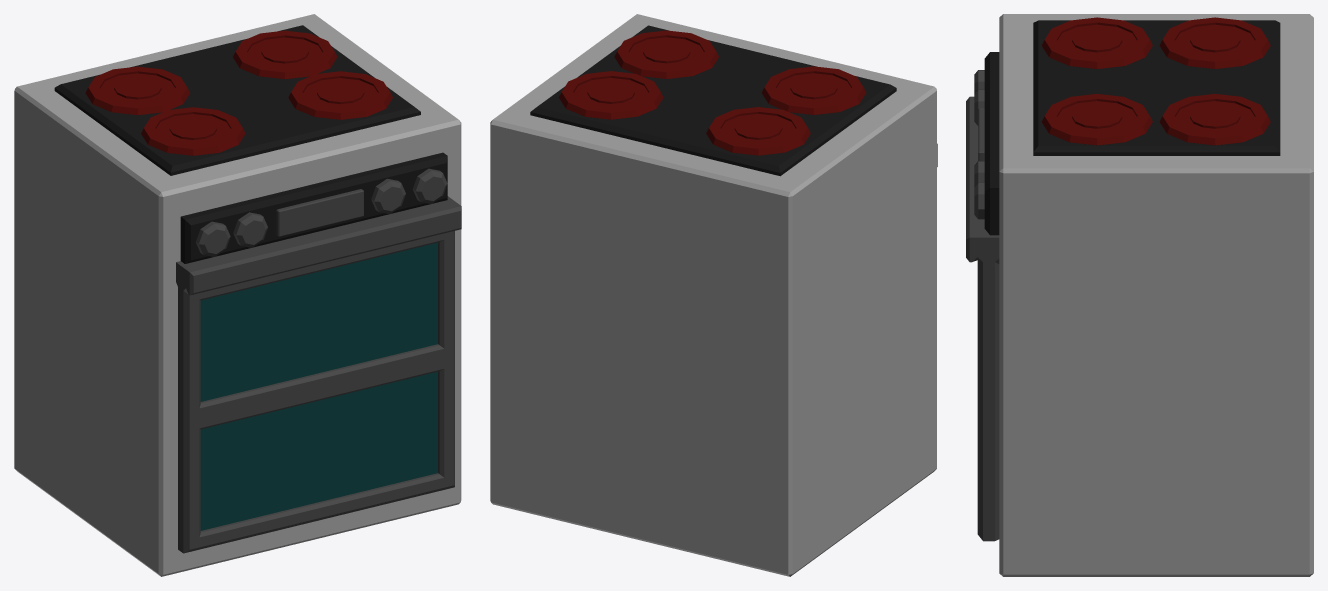
The model's file is hh_oven.glb.
The picture shows the model from 3 angles, left to right: view 1: azimuth 30°, elevation 25°; view 2: azimuth 150°, elevation 25°; view 3: azimuth 270°, elevation 25°; orthographic projection. The views are drawn at different scales.
Parts seen in each view (by area): view 1: Oven, Oven001; view 2: Oven; view 3: Oven, Oven001.
Boxes of the visible parts, x1,y1,x2,y2 form: Oven: (14,14,461,576); Oven001: (176,196,461,553); Oven: (490,14,936,576); Oven: (974,14,1313,576); Oven001: (966,96,999,541).
Bounding box in the file's own units: 0.7195 × 0.9041 × 0.6741.
